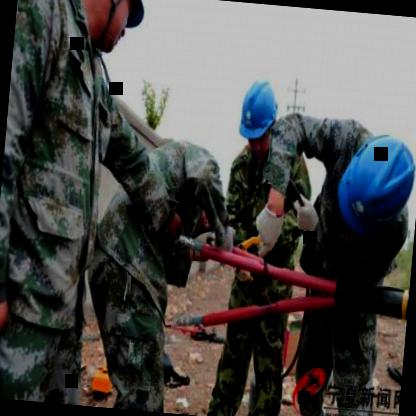helmet: (326, 120, 416, 252), (61, 0, 155, 59), (232, 74, 284, 162)
